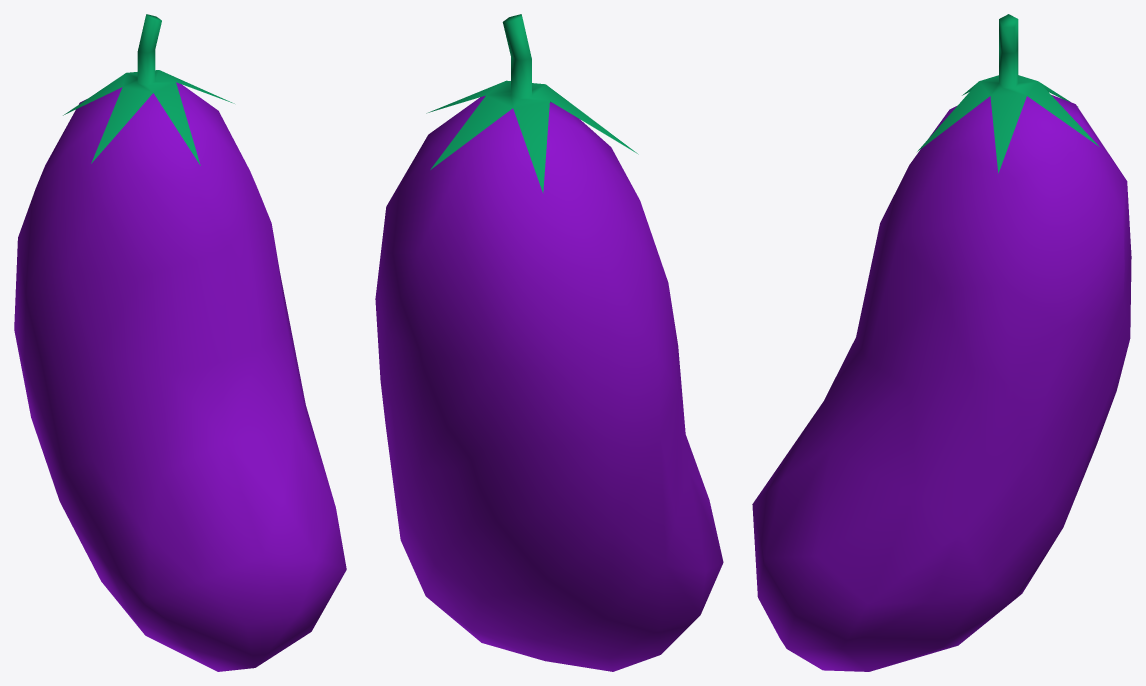
The model's file is eggplant2.FBX.
3 views of the same model, side by side, from view 1: azimuth 30°, elevation 25°; view 2: azimuth 150°, elevation 25°; view 3: azimuth 270°, elevation 25° (orthographic). The views are drawn at different scales.
Parts seen in each view (by area): view 1: Eggplant_Fruit; view 2: Eggplant_Fruit; view 3: Eggplant_Fruit.
Part boxes in pixels (x1=…): Eggplant_Fruit: x1=14, y1=14, x2=346, y2=671; Eggplant_Fruit: x1=375, y1=14, x2=723, y2=671; Eggplant_Fruit: x1=752, y1=14, x2=1131, y2=671.
Size of the model in its own units: 6.81 by 15.82 by 8.49.
